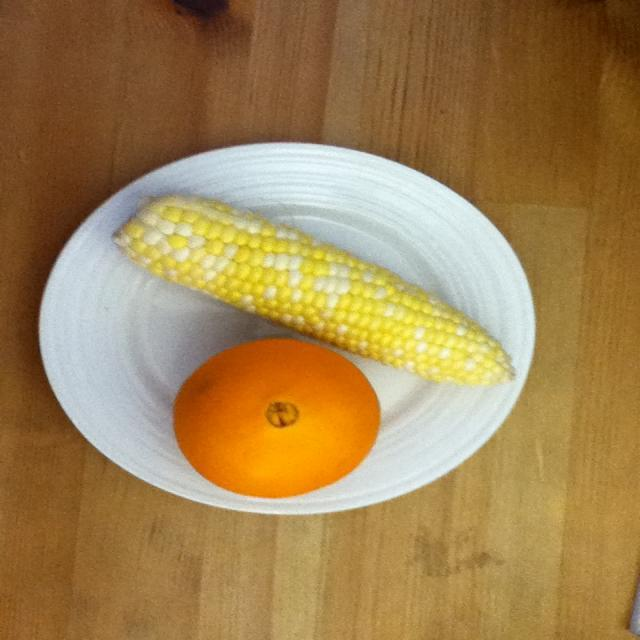Corn: (111, 186, 532, 384)
Orange: (167, 338, 392, 507)
